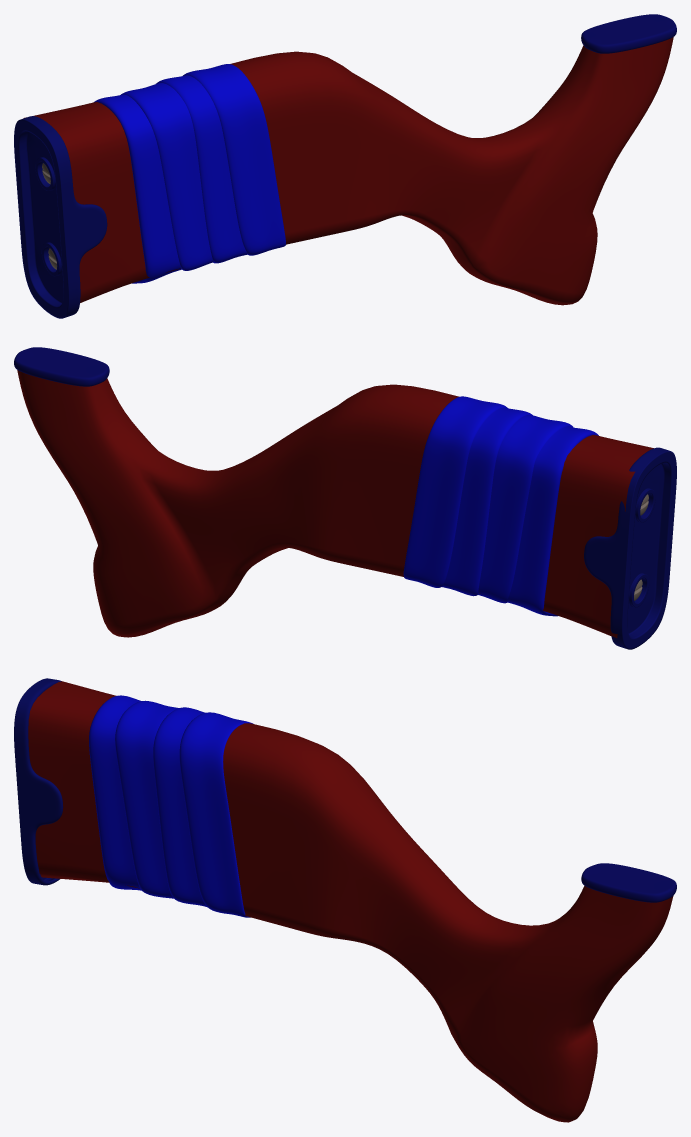
The model's file is grip_01.fbx.
The picture shows the model from 3 angles, top to bottom: view 1: azimuth 30°, elevation 25°; view 2: azimuth 150°, elevation 25°; view 3: azimuth 330°, elevation 25°; orthographic projection.
Parts seen in each view (by area): view 1: Plane.040; view 2: Plane.040; view 3: Plane.040.
Part boxes in pixels (left/top/right/bottom): Plane.040: left=14, top=14, right=676, bottom=318; Plane.040: left=14, top=347, right=676, bottom=649; Plane.040: left=14, top=678, right=676, bottom=1122.
Bounding box in the file's own units: 143 × 67.5 × 18.28.
